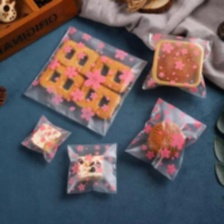snack: (17, 22, 152, 140), (121, 92, 211, 184), (138, 27, 218, 102), (61, 137, 123, 200), (16, 110, 75, 166)
